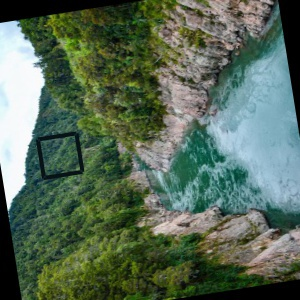square: (35, 131, 85, 179)
